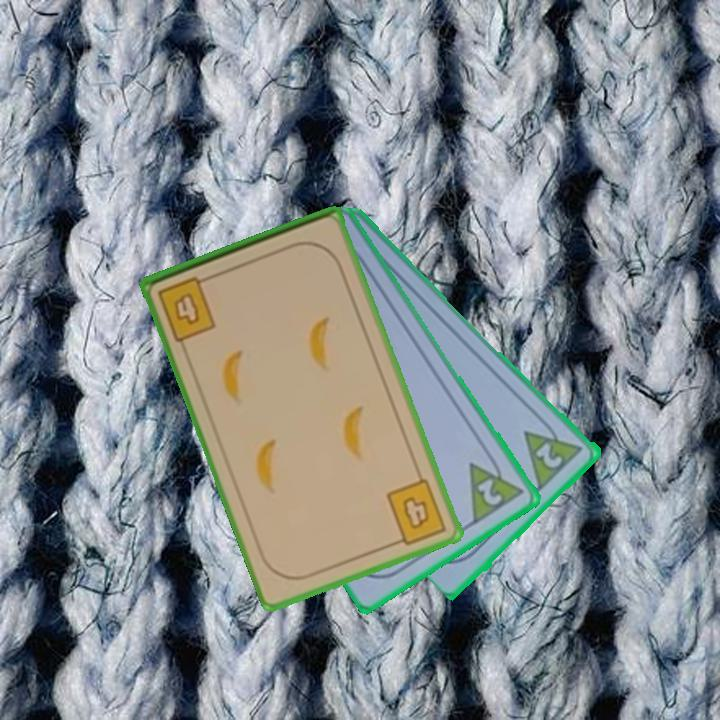2p: (465, 448, 528, 528), (532, 439, 567, 472)
4b: (383, 475, 450, 549), (154, 272, 219, 344)
